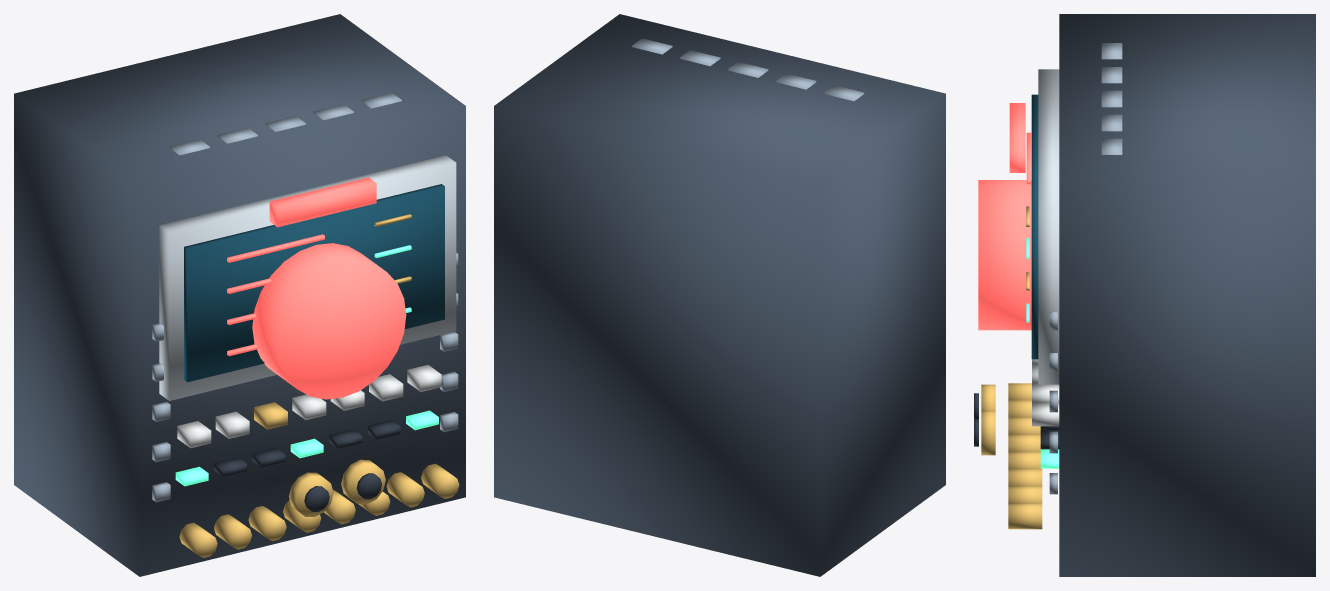
File: 78_L89_RadiationEmergencyIsolationStation.glb
3 views of the same model, side by side, from view 1: azimuth 30°, elevation 25°; view 2: azimuth 150°, elevation 25°; view 3: azimuth 270°, elevation 25° (orthographic). The views are drawn at different scales.
Parts seen in each view (by area): view 1: L87_RadiationEmergencyIsolati_Part_0000, L87_RadiationEmergencyIsolati_Part_0009, L87_RadiationEmergencyIsolati_Part_0002, L87_RadiationEmergencyIsolati_Part_0001, L87_RadiationEmergencyIsolati_Part_0004, L87_RadiationEmergencyIsolati_Part_0008, L87_RadiationEmergencyIsolati_Part_0006, L87_RadiationEmergencyIsolati_Part_0007, L87_RadiationEmergencyIsolati_Part_0005, L87_RadiationEmergencyIsolati_Part_0003, L87_RadiationEmergencyIsolati_Part_0012, L87_RadiationEmergencyIsolati_Part_0010; view 2: L87_RadiationEmergencyIsolati_Part_0000, L87_RadiationEmergencyIsolati_Part_0008; view 3: L87_RadiationEmergencyIsolati_Part_0000, L87_RadiationEmergencyIsolati_Part_0009, L87_RadiationEmergencyIsolati_Part_0001, L87_RadiationEmergencyIsolati_Part_0004, L87_RadiationEmergencyIsolati_Part_0008, L87_RadiationEmergencyIsolati_Part_0002, L87_RadiationEmergencyIsolati_Part_0006, L87_RadiationEmergencyIsolati_Part_0012, L87_RadiationEmergencyIsolati_Part_0005.
Boxes of the visible parts, x1,y1,x2,y2 form: L87_RadiationEmergencyIsolati_Part_0000: [14, 14, 465, 576]; L87_RadiationEmergencyIsolati_Part_0009: [252, 177, 406, 399]; L87_RadiationEmergencyIsolati_Part_0002: [184, 184, 444, 382]; L87_RadiationEmergencyIsolati_Part_0001: [159, 155, 456, 400]; L87_RadiationEmergencyIsolati_Part_0004: [179, 214, 459, 557]; L87_RadiationEmergencyIsolati_Part_0008: [152, 92, 458, 502]; L87_RadiationEmergencyIsolati_Part_0006: [177, 365, 441, 448]; L87_RadiationEmergencyIsolati_Part_0007: [214, 420, 400, 476]; L87_RadiationEmergencyIsolati_Part_0005: [175, 245, 438, 486]; L87_RadiationEmergencyIsolati_Part_0003: [227, 234, 324, 356]; L87_RadiationEmergencyIsolati_Part_0012: [341, 459, 385, 504]; L87_RadiationEmergencyIsolati_Part_0010: [289, 472, 333, 516]; L87_RadiationEmergencyIsolati_Part_0000: [494, 14, 945, 576]; L87_RadiationEmergencyIsolati_Part_0008: [632, 38, 864, 101]; L87_RadiationEmergencyIsolati_Part_0000: [1059, 14, 1315, 576]; L87_RadiationEmergencyIsolati_Part_0009: [978, 103, 1031, 330]; L87_RadiationEmergencyIsolati_Part_0001: [1038, 69, 1059, 384]; L87_RadiationEmergencyIsolati_Part_0004: [1008, 206, 1042, 529]; L87_RadiationEmergencyIsolati_Part_0008: [1049, 43, 1122, 494]; L87_RadiationEmergencyIsolati_Part_0002: [1031, 94, 1038, 359]; L87_RadiationEmergencyIsolati_Part_0006: [1032, 359, 1059, 426]; L87_RadiationEmergencyIsolati_Part_0012: [981, 410, 995, 455]; L87_RadiationEmergencyIsolati_Part_0005: [1026, 238, 1059, 468].
Bounding box in the file's own units: 1.12 × 1.29 × 0.996.
